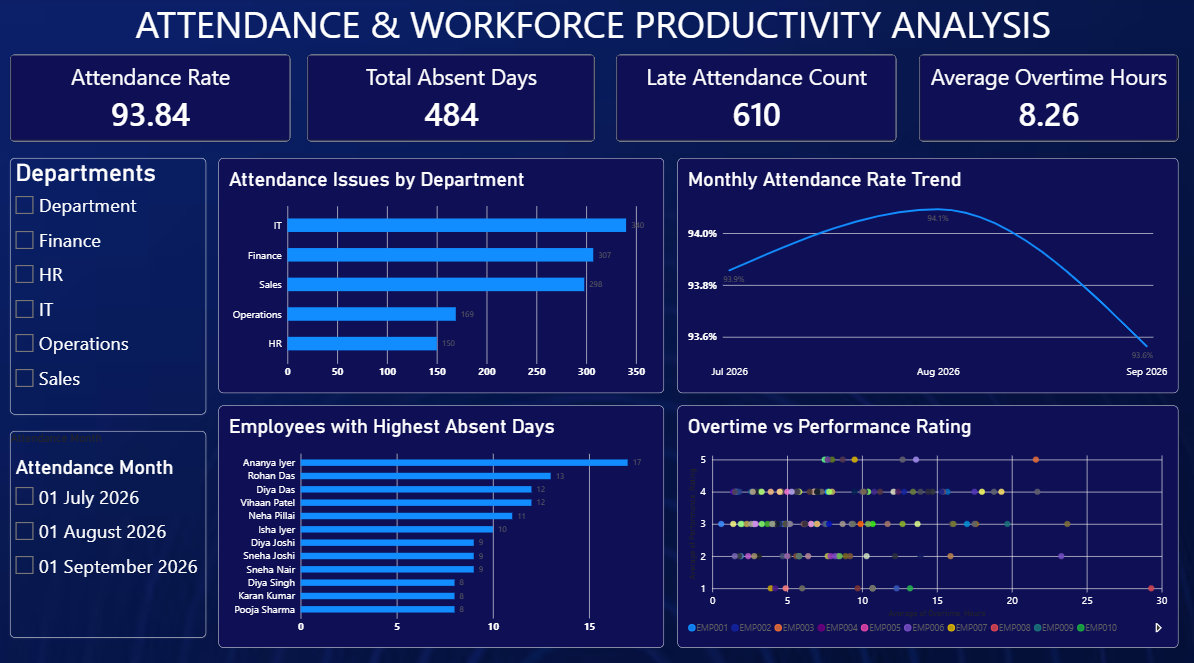

The page's visual inventory and layout, read from the dashboard file:
{"tool":"powerbi","page":{"name":"Attendance & workforce","canvas":[1920,1080],"ordinal":1},"visuals":[{"type":"cardVisual","fields":{"Data":["Attendance_cleaned.Attendance Rate"]},"box":[28.6,93.1,446.2,138.4],"z":0},{"type":"textbox","box":[0,2.4,1920.7,90.7],"z":1000},{"type":"cardVisual","fields":{"Data":["Attendance_cleaned.Total Absent Days"]},"box":[501,93.1,458.1,138.4],"z":2000},{"type":"cardVisual","fields":{"Data":["Attendance_cleaned.Late Attendance Count"]},"box":[992.5,93.1,446.2,138.4],"z":3000},{"type":"cardVisual","fields":{"Data":["Attendance_cleaned.Average Overtime Hours"]},"box":[1474.5,93.1,412.8,138.4],"z":4000},{"type":"barChart","title":"Attendance Issues by Department","fields":{"Category":["Employees_cleaned.Department"],"Y":["CountNonNull(Attendance_cleaned.Attendance_ID)"]},"box":[360,258,708.7,374.2],"z":5000},{"type":"lineChart","title":"Monthly Attendance Rate Trend","fields":{"Category":["Attendance_cleaned.Attendance_Month.Variation.Date Hierarchy.Year","Attendance_cleaned.Attendance_Month.Variation.Date Hierarchy.Quarter","Attendance_cleaned.Attendance_Month.Variation.Date Hierarchy.Month","Attendance_cleaned.Attendance_Month.Variation.Date Hierarchy.Day"],"Y":["Attendance_cleaned.Monthly Attendance Rate"]},"box":[1091.3,258,796.5,374.2],"z":6000},{"type":"barChart","title":"Employees with Highest Absent Days","fields":{"Category":["Employees_cleaned.Employee_Name"],"Y":["Sum(Attendance_cleaned.Is_Absent)"]},"box":[360,652,708.7,385.5],"z":7000},{"type":"scatterChart","title":"Overtime vs Performance Rating","fields":{"Series":["Performance_cleaned.Employee_ID"],"X":["Avg(Performance_cleaned.Overtime_Hours)"],"Y":["Avg(Performance_cleaned.Performance_Rating)"]},"box":[1091.3,652,796.5,385.5],"z":8000},{"type":"slicer","fields":{"Values":["Departments_cleaned.Column2"]},"box":[28.3,258,311.8,408.2],"z":9000},{"type":"slicer","title":" Attendance Month ","fields":{"Values":["Attendance_cleaned.Attendance_Month"]},"box":[28.3,691.7,311.8,328.8],"z":10000}]}

Visuals, with their boxes in screenshot pixels (x1, y1, x2, y2), scaled from the page's 1920x1080 canvas onto the 1194x663 screenshot:
cardVisual - Attendance_cleaned.Attendance Rate: Rect(18, 57, 295, 142)
textbox: Rect(0, 1, 1193, 57)
cardVisual - Attendance_cleaned.Total Absent Days: Rect(312, 57, 596, 142)
cardVisual - Attendance_cleaned.Late Attendance Count: Rect(617, 57, 895, 142)
cardVisual - Attendance_cleaned.Average Overtime Hours: Rect(917, 57, 1174, 142)
"Attendance Issues by Department" barChart: Rect(224, 158, 665, 388)
"Monthly Attendance Rate Trend" lineChart: Rect(679, 158, 1174, 388)
"Employees with Highest Absent Days" barChart: Rect(224, 400, 665, 637)
"Overtime vs Performance Rating" scatterChart: Rect(679, 400, 1174, 637)
slicer - Departments_cleaned.Column2: Rect(18, 158, 211, 409)
" Attendance Month " slicer: Rect(18, 425, 211, 626)
